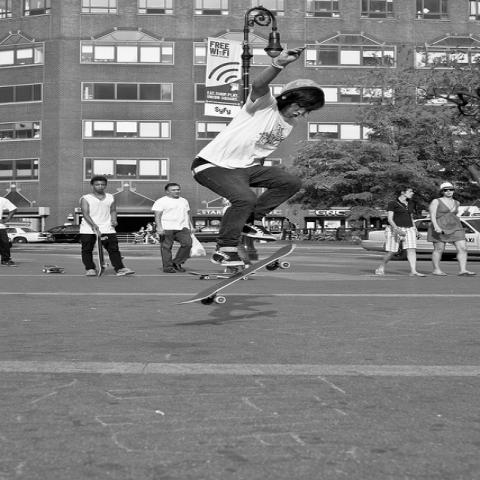car: (361, 215, 479, 261), (7, 226, 56, 245), (43, 225, 81, 243), (195, 224, 220, 243)
